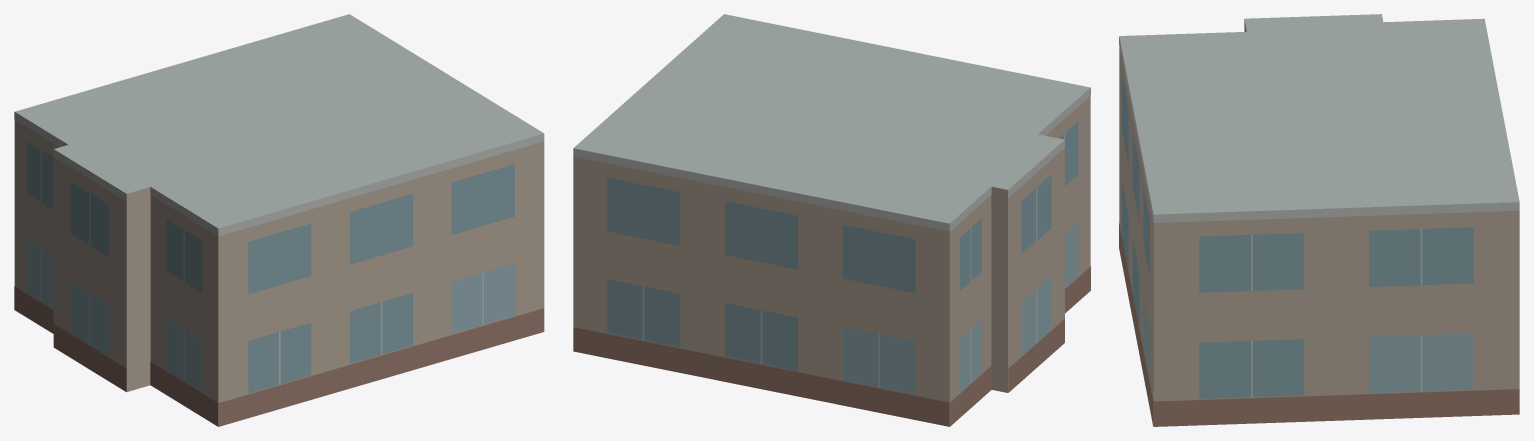
Rendered from survey-upis-33034314.glb.
3 views of the same model, side by side, from view 1: azimuth 30°, elevation 25°; view 2: azimuth 150°, elevation 25°; view 3: azimuth 270°, elevation 25° (orthographic). The views are drawn at different scales.
Visible parts, largest first — view 1: survey-upis-33034314.tmp; view 2: survey-upis-33034314.tmp; view 3: survey-upis-33034314.tmp.
Part boxes in pixels (<box>): survey-upis-33034314.tmp: <box>14,14,544,426</box>; survey-upis-33034314.tmp: <box>573,14,1090,426</box>; survey-upis-33034314.tmp: <box>1119,14,1519,426</box>.
Size of the model in its own units: 12.37 by 6.1 by 10.44.
